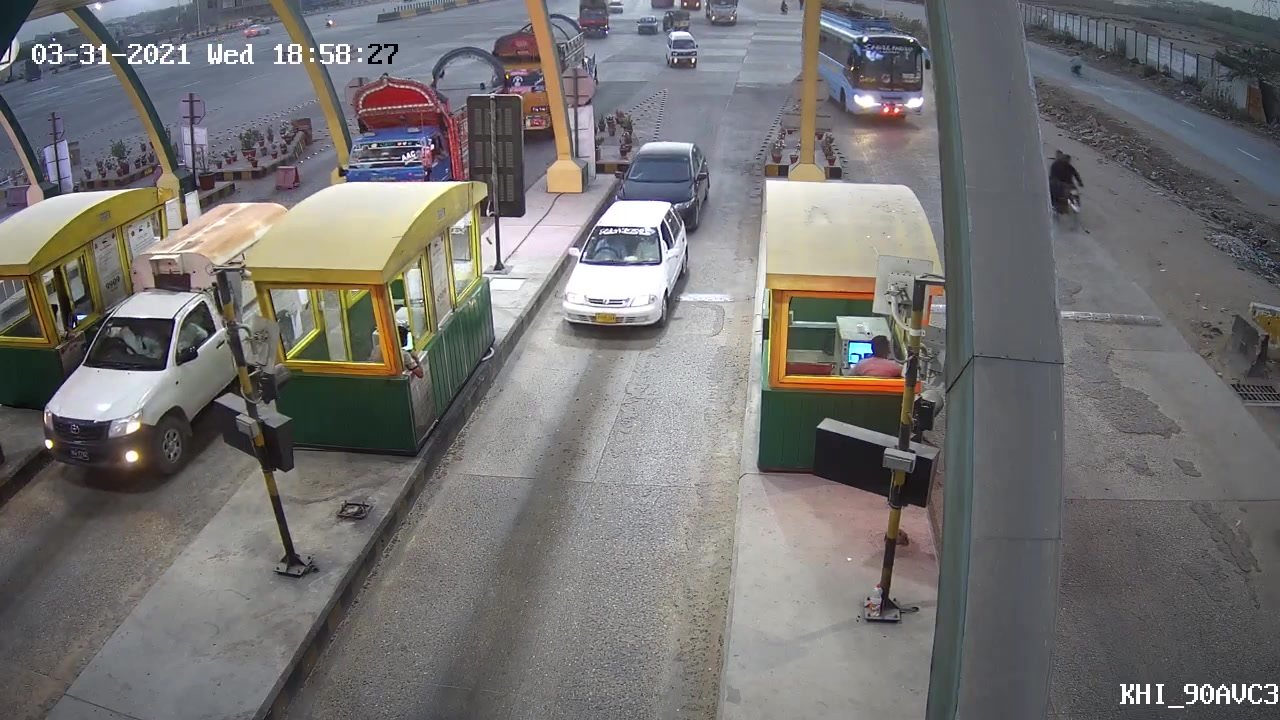F1: (551, 194, 701, 335)
